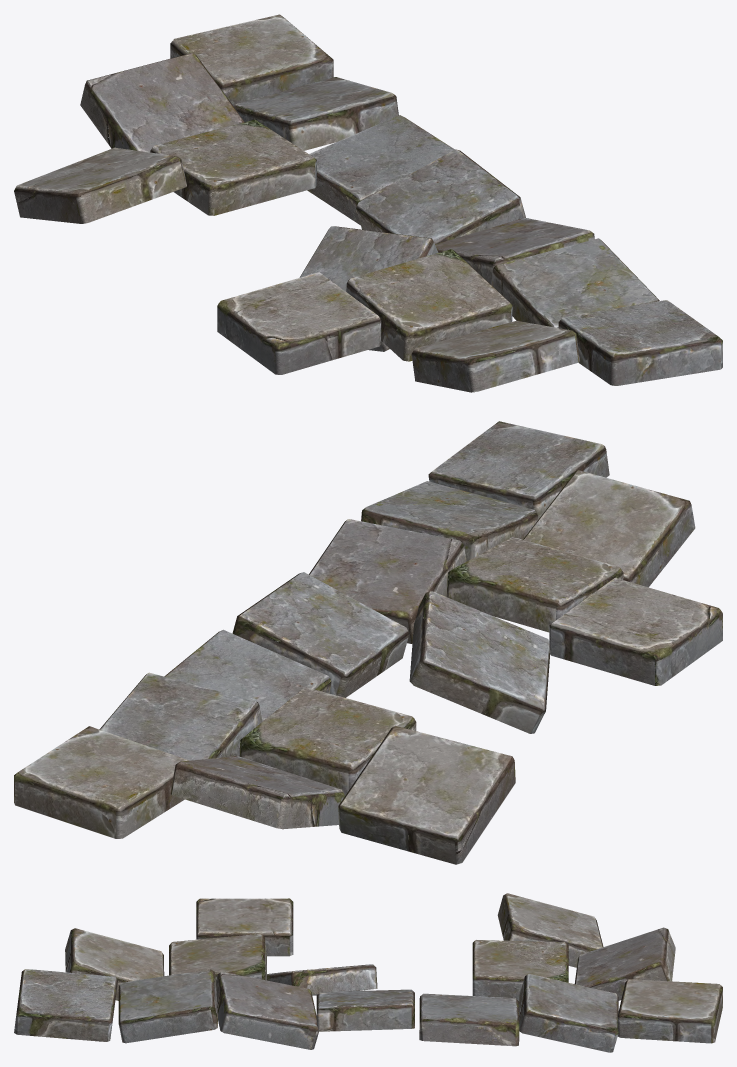
3 views of the same model, one above another, from view 1: azimuth 30°, elevation 25°; view 2: azimuth 150°, elevation 25°; view 3: azimuth 270°, elevation 25° (orthographic). The views are drawn at different scales.
Visible parts, largest first — view 1: SM_Greathall_Floor_8x4_Broken_02_LOD0; view 2: SM_Greathall_Floor_8x4_Broken_02_LOD0; view 3: SM_Greathall_Floor_8x4_Broken_02_LOD0.
Boxes of the visible parts, bbox=[...] form: SM_Greathall_Floor_8x4_Broken_02_LOD0: bbox=[14, 14, 722, 392]; SM_Greathall_Floor_8x4_Broken_02_LOD0: bbox=[14, 421, 722, 864]; SM_Greathall_Floor_8x4_Broken_02_LOD0: bbox=[14, 893, 722, 1052].
Bounding box in the file's own units: 3.05 × 0.8471 × 6.98.
1 material, 1 textured.
